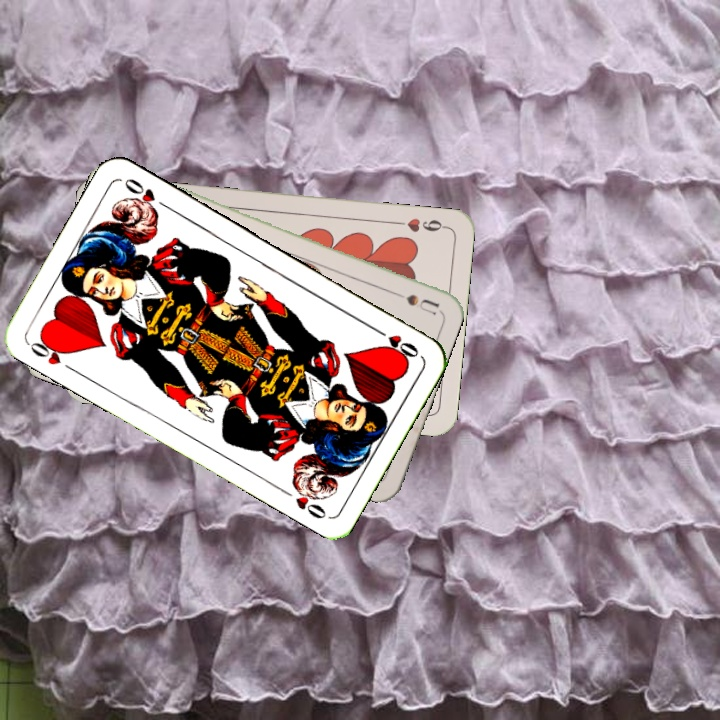H9: (390, 214, 449, 235)
HO: (24, 332, 78, 375), (369, 323, 422, 360)
SU: (382, 285, 441, 316)
